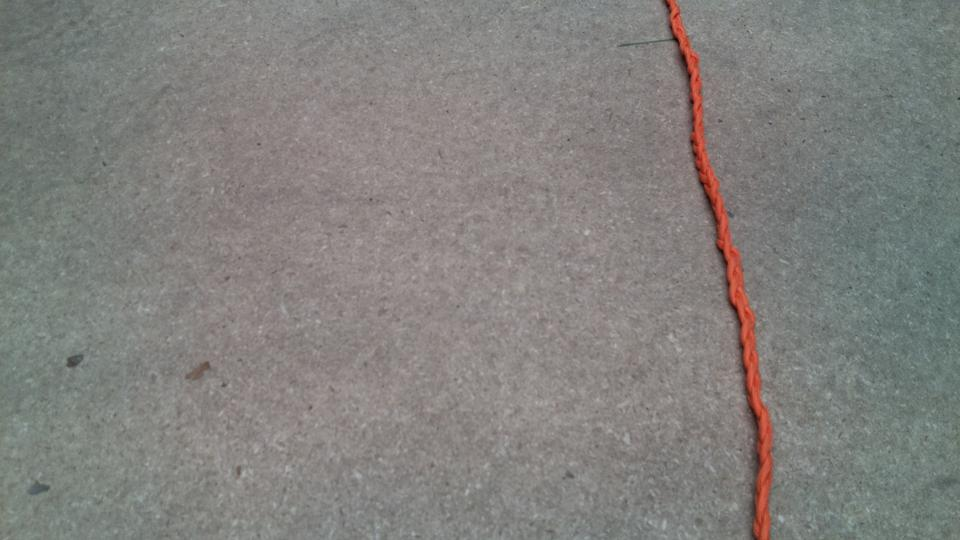rope: (659, 1, 782, 540)
